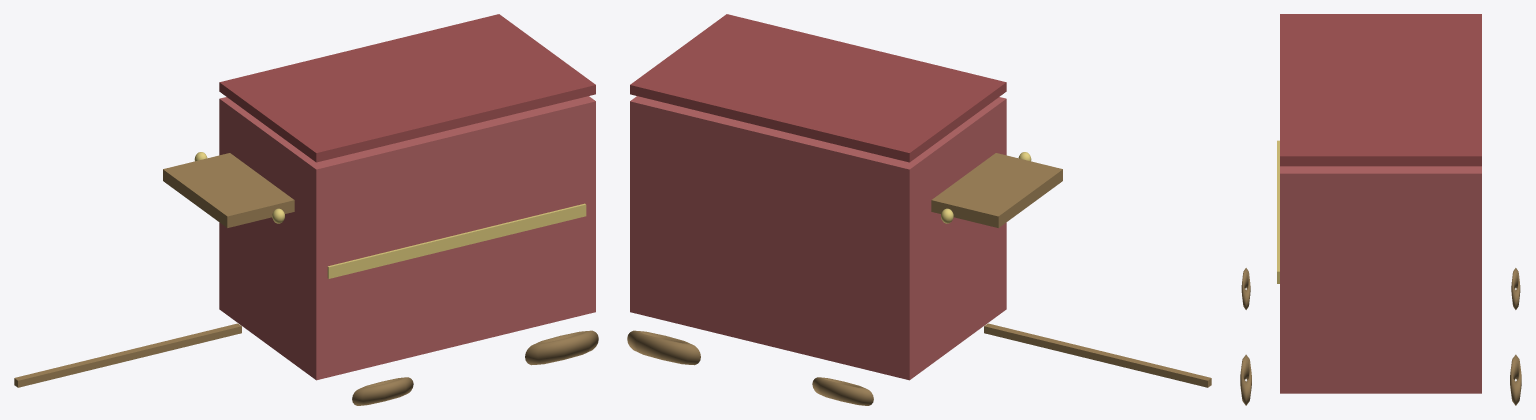
File: env-ww-stagecoach.glb
3 views of the same model, side by side, from view 1: azimuth 30°, elevation 25°; view 2: azimuth 150°, elevation 25°; view 3: azimuth 270°, elevation 25° (orthographic). The views are drawn at different scales.
Bounding box in the file's own units: 4.75 × 2.13 × 2.09.
